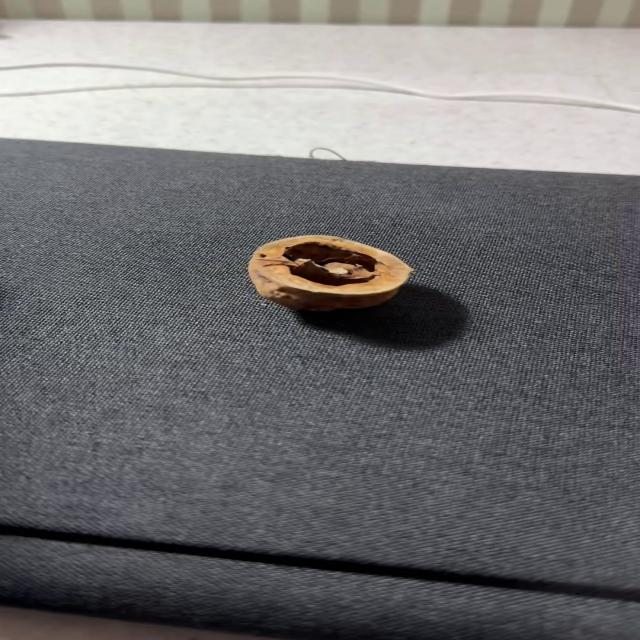nuts-bad0.5: (249, 235, 412, 311)
